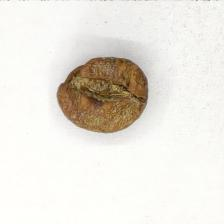NG: (59, 57, 141, 128)
